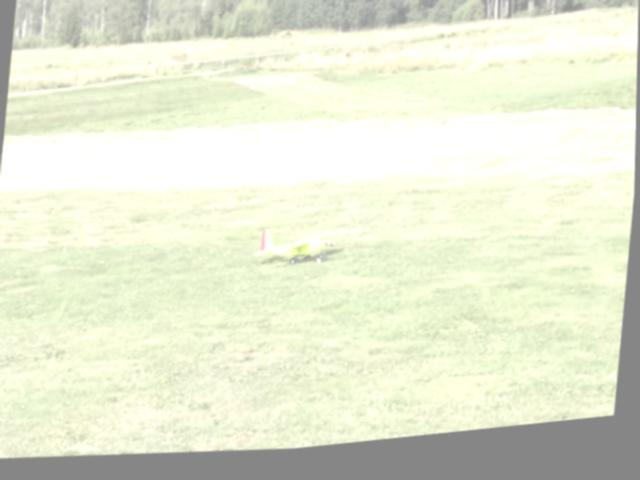plane: (251, 227, 336, 278)
